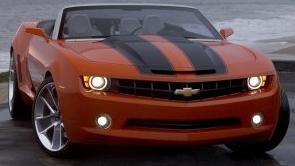front_view: (65, 61, 286, 150)
headlight: (77, 70, 117, 98)
